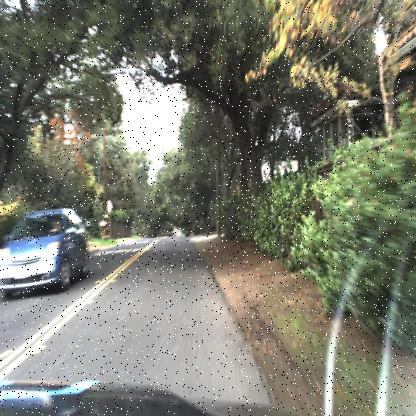car: (0, 209, 90, 300)
